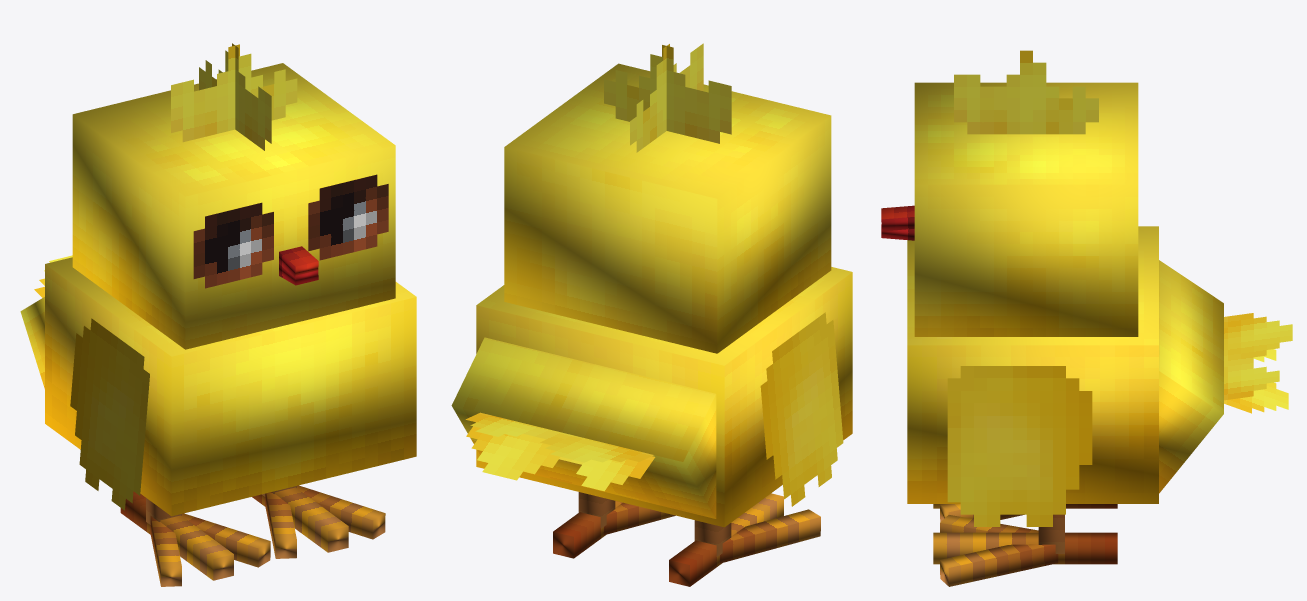
Rendered from hy_chick.glb.
3 renders of one model, left to right at view 1: azimuth 30°, elevation 25°; view 2: azimuth 150°, elevation 25°; view 3: azimuth 270°, elevation 25°, orthographic.
Visible parts, largest first — view 1: Head, Pelvis, R-Arm, Head-Hair, L-Eye, R-Eye, R-Foot, Head-Hair-2, L-Foot, L-Foot2, R-Foot3, R-Foot2 (+3 smaller); view 2: Head, Pelvis, Rear, R-Arm, Head-Hair, Tail2, Tail, R-Foot2, R-Foot, Head-Hair-2, L-Foot, L-Foot3 (+2 smaller); view 3: Head, Pelvis, L-Arm, Rear, Head-Hair-2, Tail, L-Foot, L-Foot2, Tail2, L-Foot3, Beak, L-Thigh.
Part boxes in pixels (x1=…): Head: x1=72, y1=63, x2=395, y2=349; Pelvis: x1=45, y1=257, x2=416, y2=516; R-Arm: x1=70, y1=318, x2=149, y2=510; Head-Hair: x1=171, y1=44, x2=297, y2=142; L-Eye: x1=308, y1=174, x2=388, y2=260; R-Eye: x1=193, y1=202, x2=273, y2=288; R-Foot: x1=120, y1=491, x2=233, y2=580; Head-Hair-2: x1=199, y1=43, x2=271, y2=150; L-Foot: x1=252, y1=487, x2=348, y2=552; L-Foot2: x1=297, y1=485, x2=385, y2=539; R-Foot3: x1=149, y1=513, x2=270, y2=567; R-Foot2: x1=150, y1=516, x2=181, y2=586; Head: x1=504, y1=63, x2=831, y2=353; Pelvis: x1=476, y1=267, x2=852, y2=527; Rear: x1=451, y1=337, x2=716, y2=518; R-Arm: x1=760, y1=312, x2=843, y2=506; Head-Hair: x1=604, y1=45, x2=731, y2=143; Tail2: x1=466, y1=422, x2=655, y2=491; Tail: x1=465, y1=412, x2=653, y2=462; R-Foot2: x1=720, y1=509, x2=820, y2=563; R-Foot: x1=669, y1=493, x2=783, y2=586; Head-Hair-2: x1=630, y1=43, x2=703, y2=152; L-Foot: x1=553, y1=501, x2=622, y2=558; L-Foot3: x1=604, y1=502, x2=675, y2=535; Head: x1=914, y1=82, x2=1138, y2=336; Pelvis: x1=907, y1=226, x2=1158, y2=503; L-Arm: x1=947, y1=366, x2=1092, y2=526; Rear: x1=1159, y1=260, x2=1223, y2=493; Head-Hair-2: x1=954, y1=50, x2=1098, y2=134; Tail: x1=1224, y1=313, x2=1292, y2=400; L-Foot: x1=933, y1=532, x2=1117, y2=564; L-Foot2: x1=940, y1=544, x2=1058, y2=586; Tail2: x1=1224, y1=349, x2=1288, y2=413; L-Foot3: x1=940, y1=515, x2=1059, y2=562; Beak: x1=881, y1=205, x2=914, y2=231; L-Thigh: x1=1038, y1=514, x2=1064, y2=553.
Size of the model in its own units: 0.7458 by 1.26 by 0.9767.
Materials: 2 (2 with a texture image).
